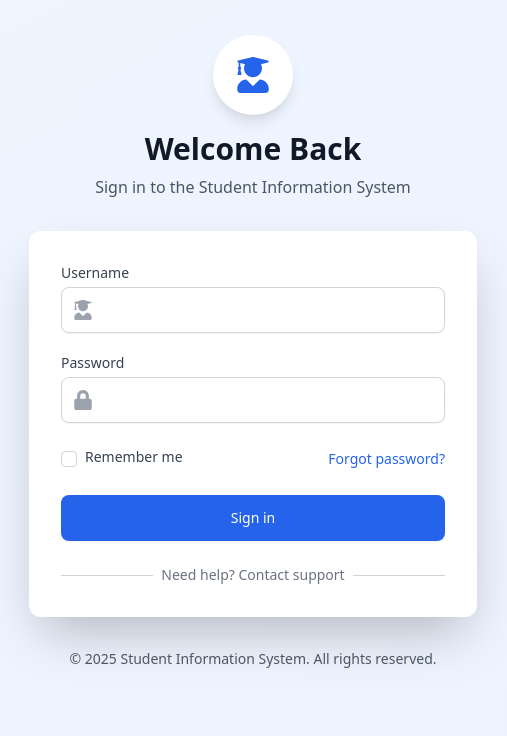
Test: LoginPage › shows an error when the login response does not include a role
The width and height of the screenshot is (507, 736).
Type "student" into the field labelled "Username". click: (253, 310)
box: top-left (61, 287), bottom-right (445, 333)
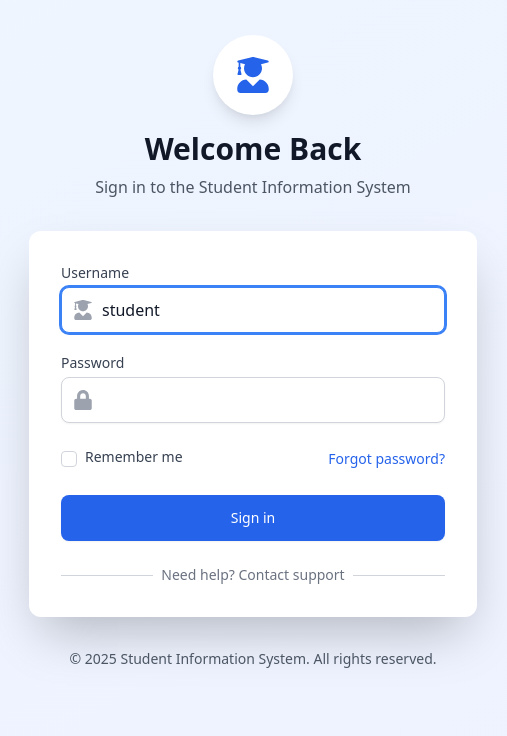
Type "password" into the password field labelled "Password". click: (253, 400)
box: top-left (61, 377), bottom-right (445, 423)
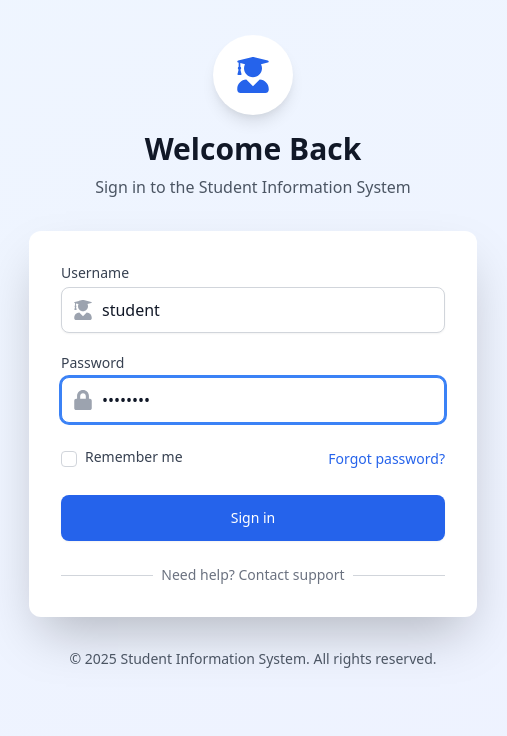
Click the button "Sign in". click: click(253, 518)
box: top-left (61, 495), bottom-right (445, 541)
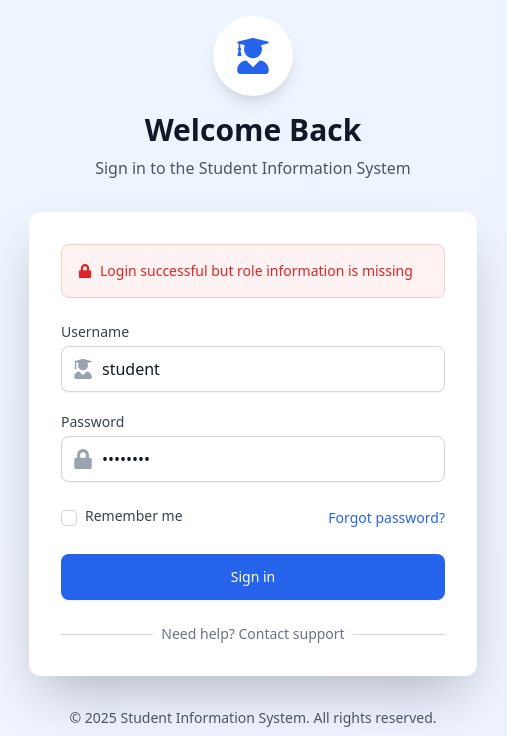
Expected: the text "Login successful but role information is missing" is shown, top-left (78, 261), bottom-right (428, 281)
